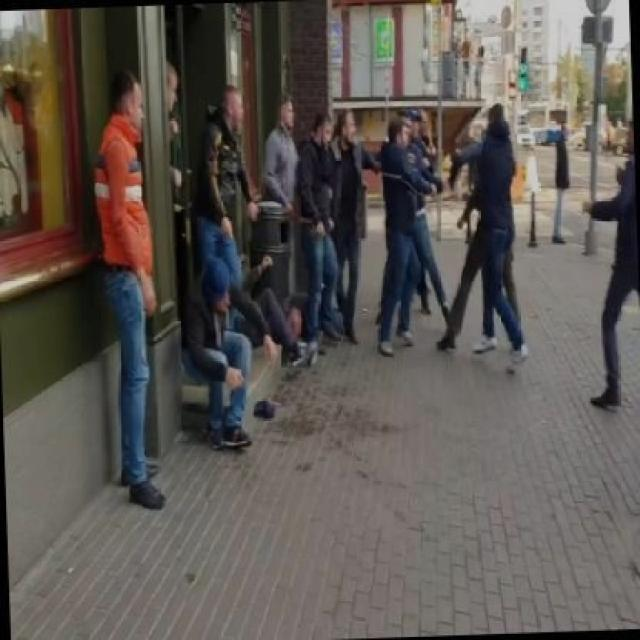fight: (357, 95, 537, 368)
non-fight: (63, 61, 192, 514), (303, 98, 383, 354)
